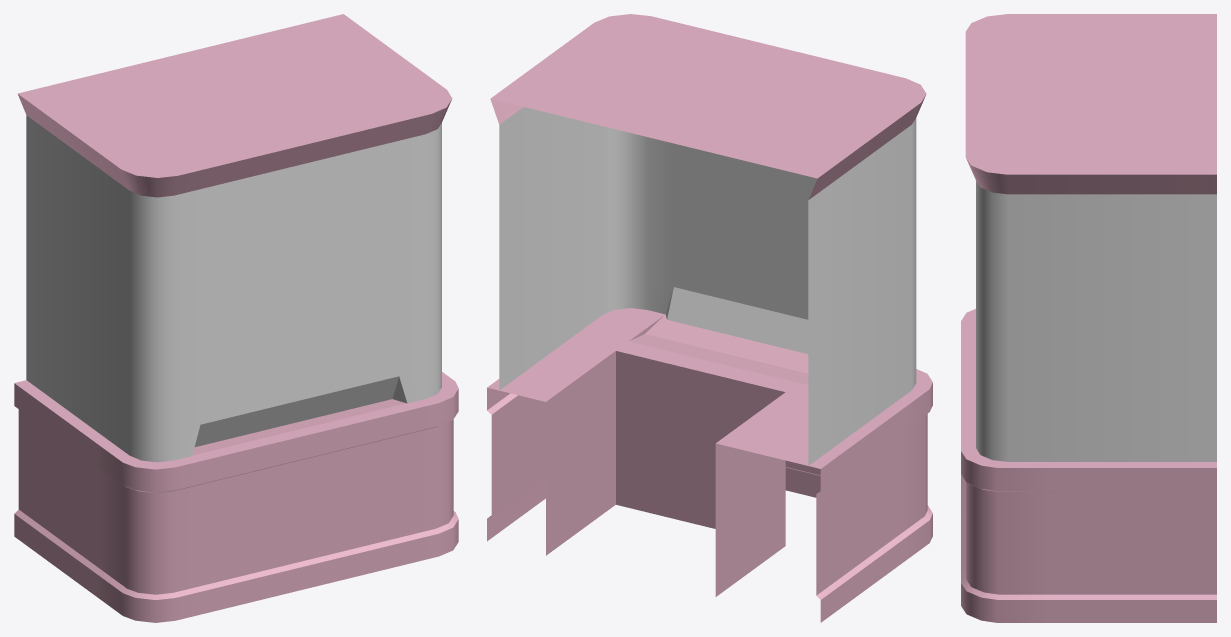
File: EH_Reception 2.fbx
3 renders of one model, left to right at view 1: azimuth 30°, elevation 25°; view 2: azimuth 150°, elevation 25°; view 3: azimuth 270°, elevation 25°, orthographic.
Visible parts, largest first — view 1: EH_Reception; view 2: EH_Reception; view 3: EH_Reception.
Boxes of the visible parts, x1,y1,x2,y2 form: EH_Reception: (14, 14, 458, 622); EH_Reception: (487, 14, 932, 622); EH_Reception: (961, 14, 1216, 622).
Size of the model in its own units: 213 by 270 by 140.
